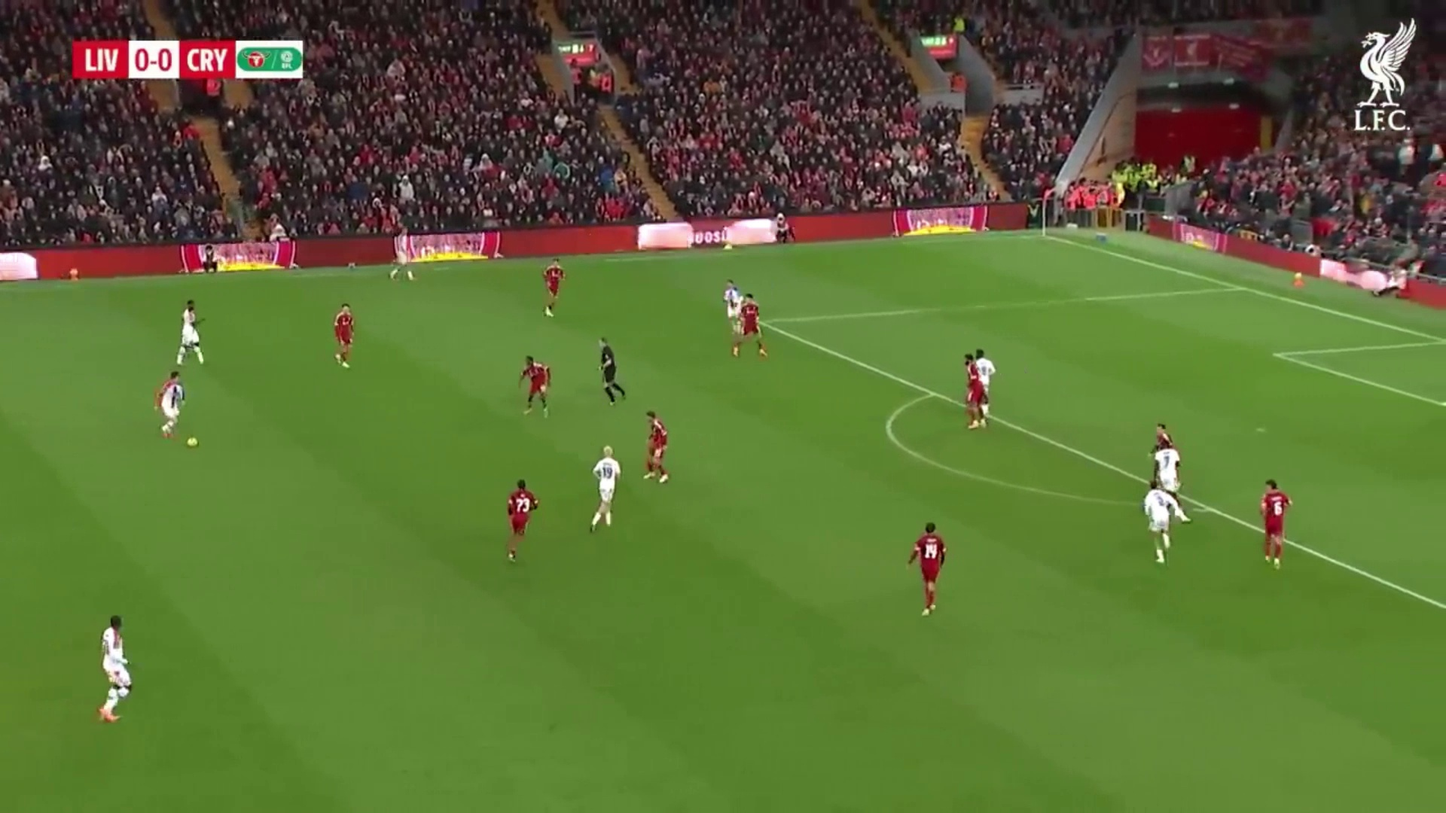player: (1144, 425, 1186, 561), (98, 616, 133, 724), (1143, 480, 1186, 563), (1147, 425, 1185, 515), (912, 520, 946, 615), (725, 284, 766, 360), (1260, 478, 1292, 570), (505, 479, 539, 564), (589, 443, 621, 532), (963, 351, 994, 431), (1149, 424, 1182, 498), (155, 367, 186, 433), (644, 410, 671, 484), (177, 298, 205, 367), (521, 353, 550, 415), (596, 334, 621, 402), (333, 303, 357, 369), (722, 283, 743, 358), (542, 262, 564, 318), (722, 282, 742, 332)
